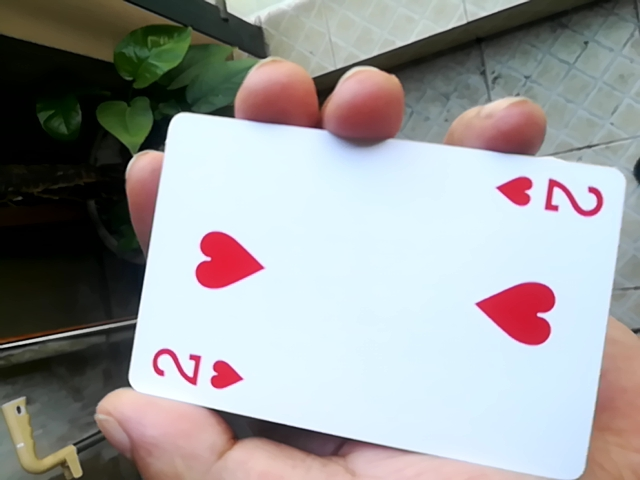hx 2: (119, 111, 635, 472)
